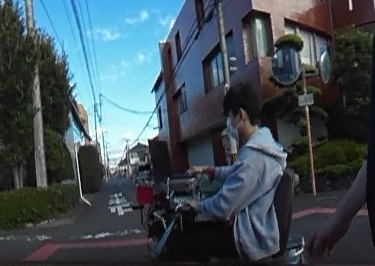person: (199, 82, 284, 266)
